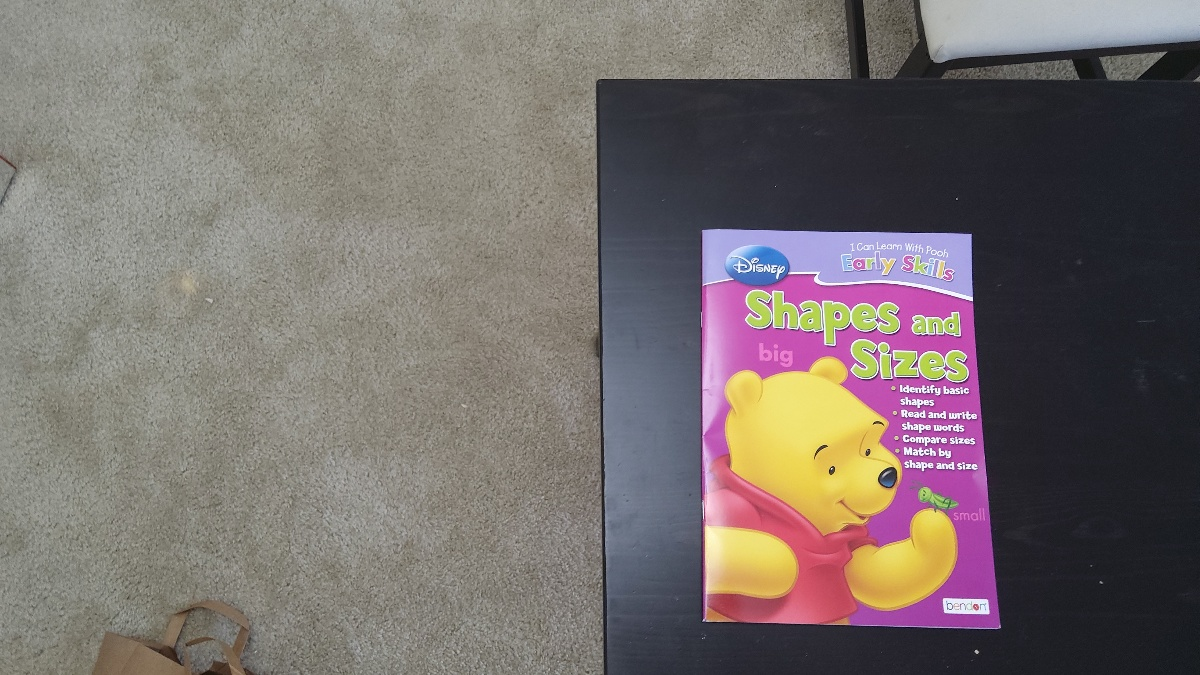book: (699, 228, 997, 627)
